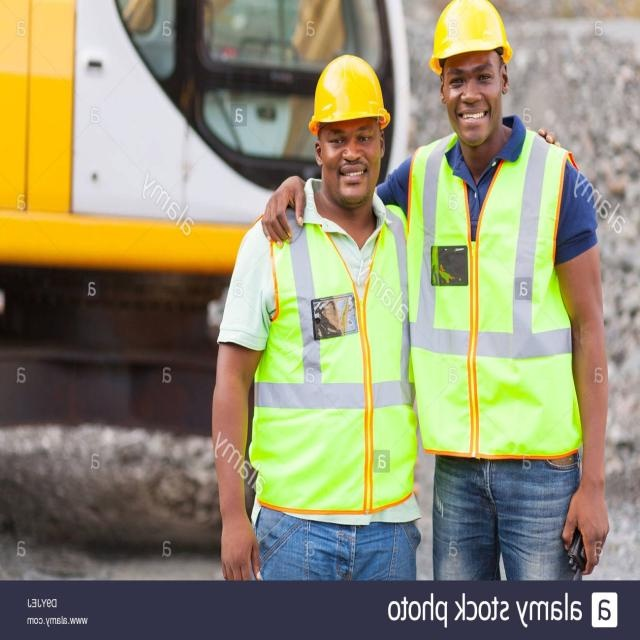Con_Chaleco: (405, 126, 581, 447), (244, 204, 415, 517)
